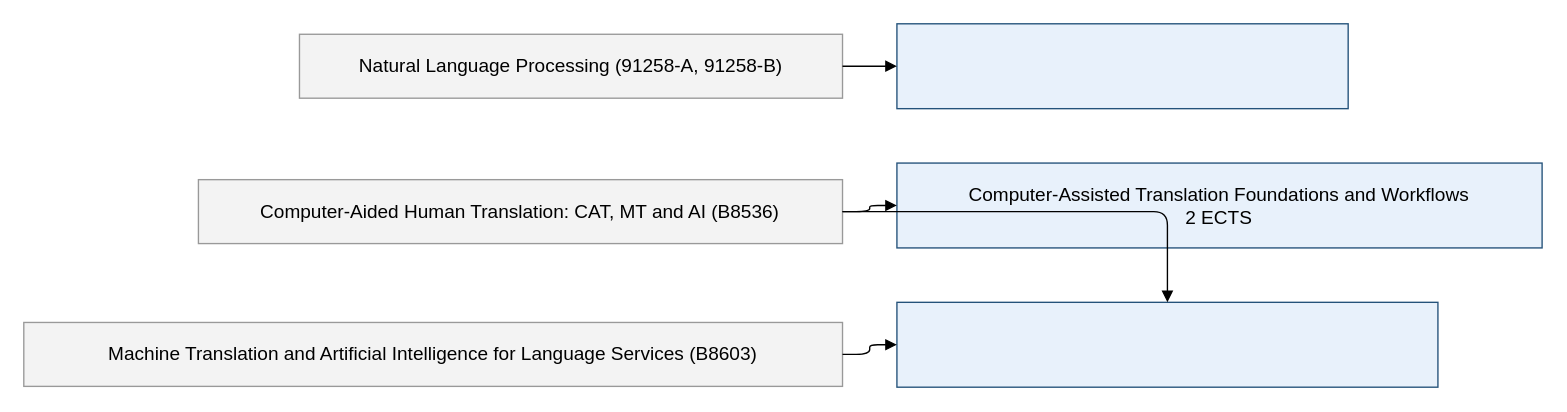
Some shapes in this 1567 by 412 pixel diagram are drawn without their labels. Here are the shapes that lost their labels. From the top down, the centre of each, then its label:
At (1122,65): "Computational Linguistics Foundations 2 ECTS".
At (1167,344): "Machine Translation and Translation AI Services 5 ECTS".
